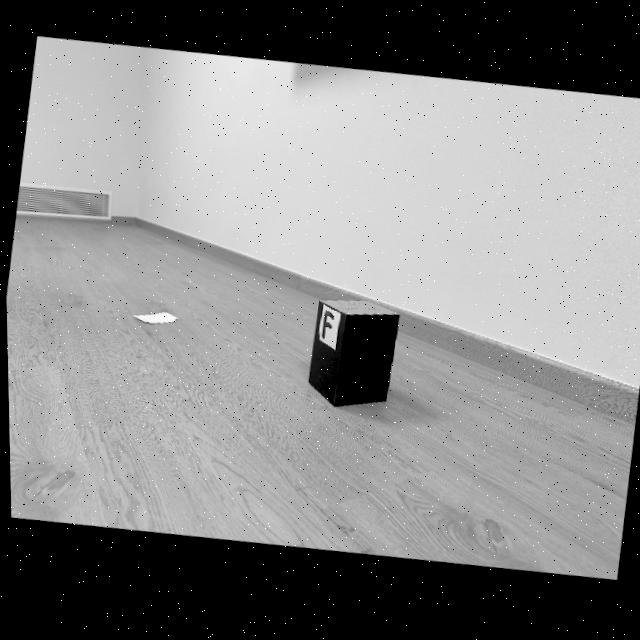F: (321, 313, 333, 342)
